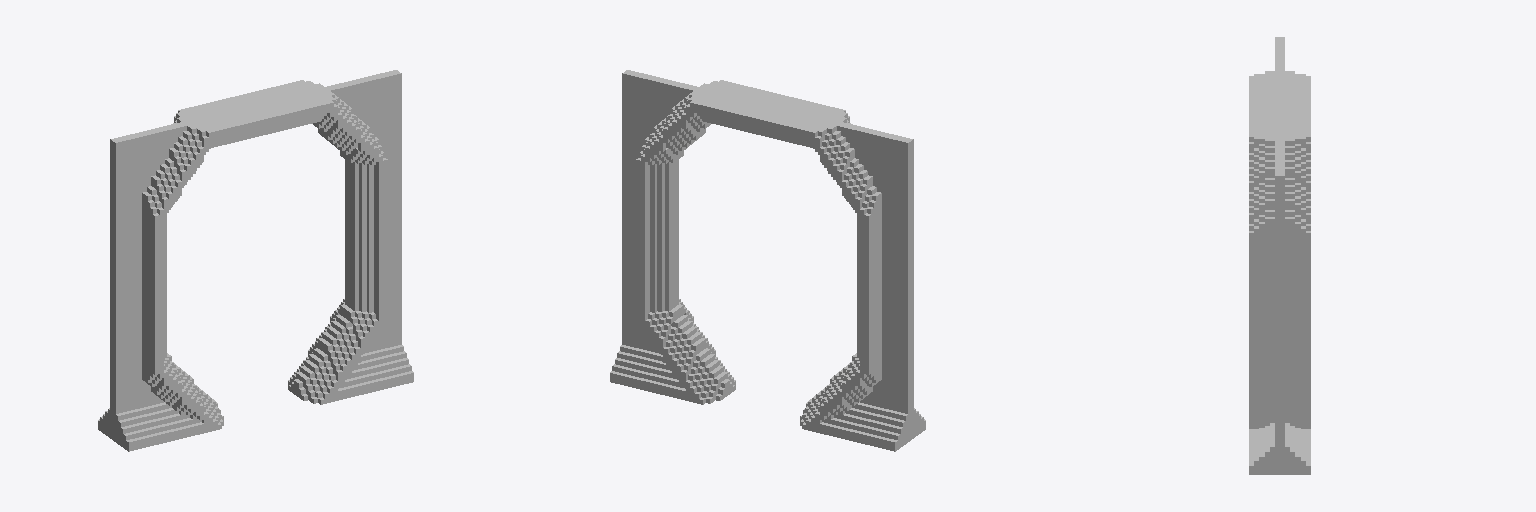
File: door.obj
3 views of the same model, side by side, from view 1: azimuth 30°, elevation 25°; view 2: azimuth 150°, elevation 25°; view 3: azimuth 270°, elevation 25° (orthographic).
Visible parts, largest first — view 1: object 1; view 2: object 1; view 3: object 1.
Part boxes in pixels (bbox=[...]): object 1: bbox=[98, 70, 413, 451]; object 1: bbox=[610, 70, 925, 451]; object 1: bbox=[1249, 37, 1310, 474].
Size of the model in its own units: 6.4 by 6.4 by 1.2.